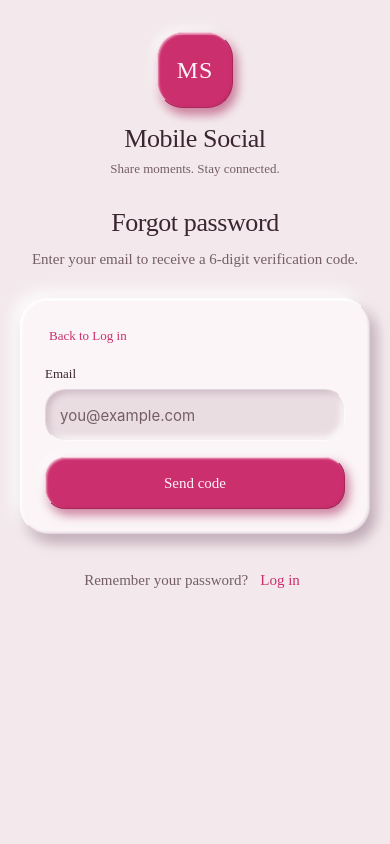
Test: ForgotPasswordScreen (Phase 2) › displays service error message without crashing when request fails
Type "user@test.com" into the field with placeholder "you@example.com" at (195, 415), box [46, 390, 344, 440]
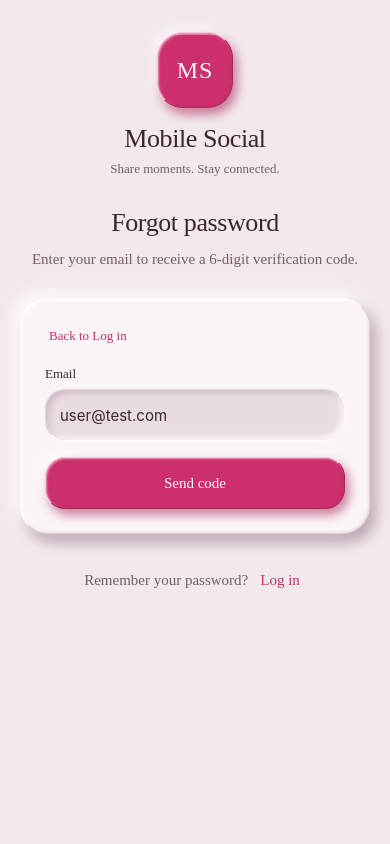
Click the button with aria-label "Send reset code" at (195, 483), box [45, 457, 345, 509]
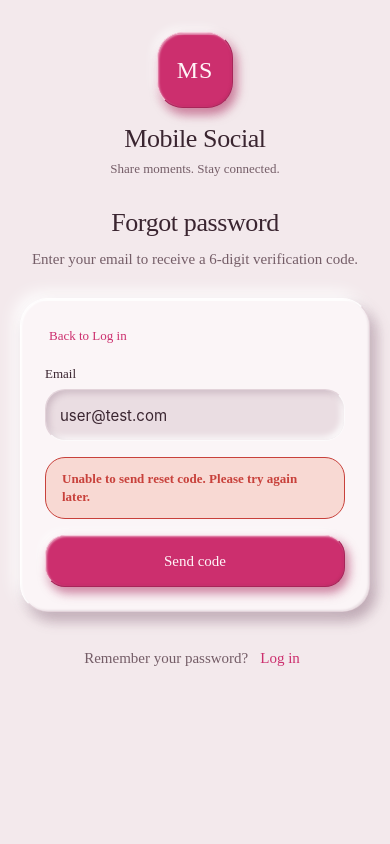
Now the text "Unable to send reset code. Please try again later." is shown, box [62, 470, 328, 506]
